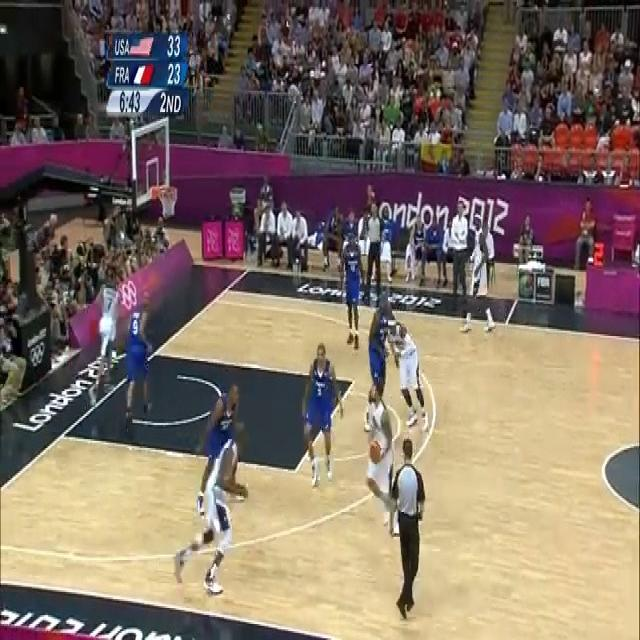basketball: (370, 439, 383, 464)
hoop: (158, 187, 179, 220)
person: (304, 344, 340, 486), (448, 202, 473, 296)
